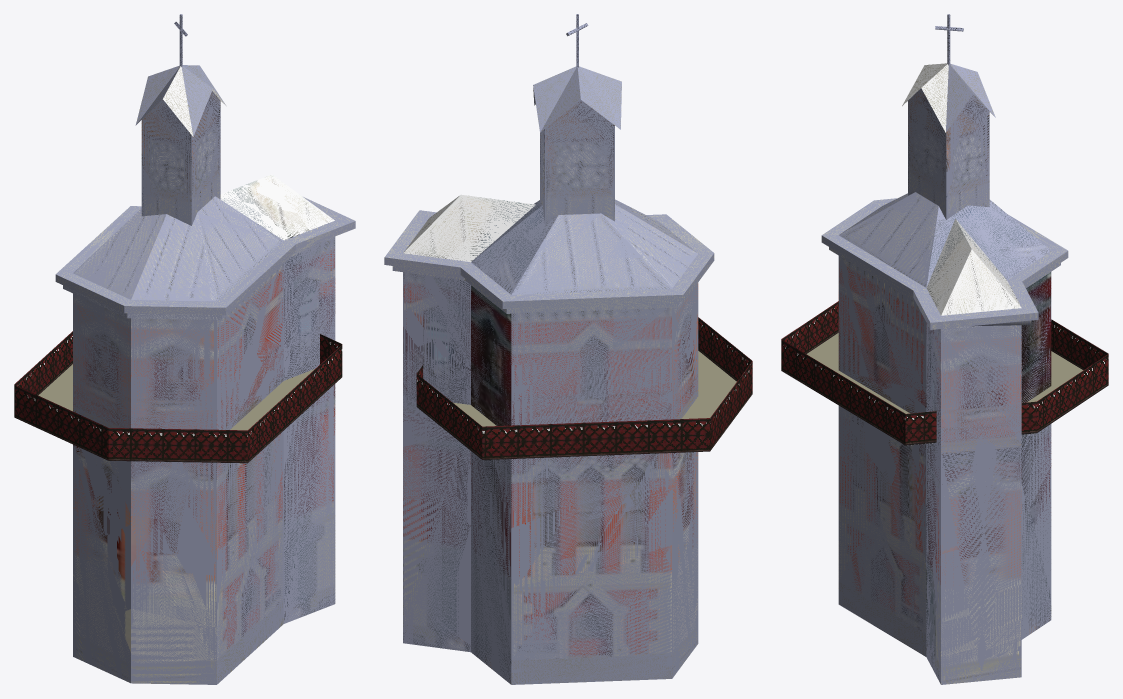
File: clock_tower.fbx
3 views of the same model, side by side, from view 1: azimuth 30°, elevation 25°; view 2: azimuth 150°, elevation 25°; view 3: azimuth 270°, elevation 25° (orthographic). The views are drawn at different scales.
Parts seen in each view (by area): view 1: Group1; view 2: Group1; view 3: Group1.
Part boxes in pixels (<box>): Group1: <box>14,14,355,684</box>; Group1: <box>384,14,752,684</box>; Group1: <box>781,14,1108,684</box>.
Bounding box in the file's own units: 14.18 × 26.92 × 13.31.
